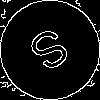S: (25, 25, 79, 82)
